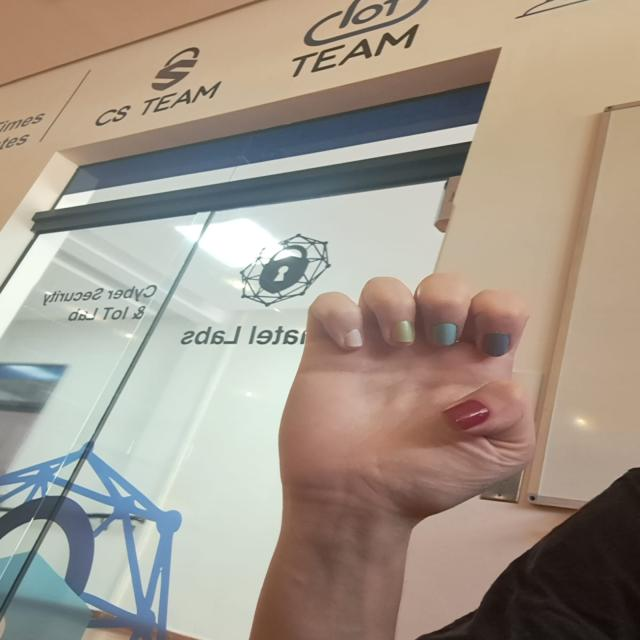E: (269, 262, 542, 522)
